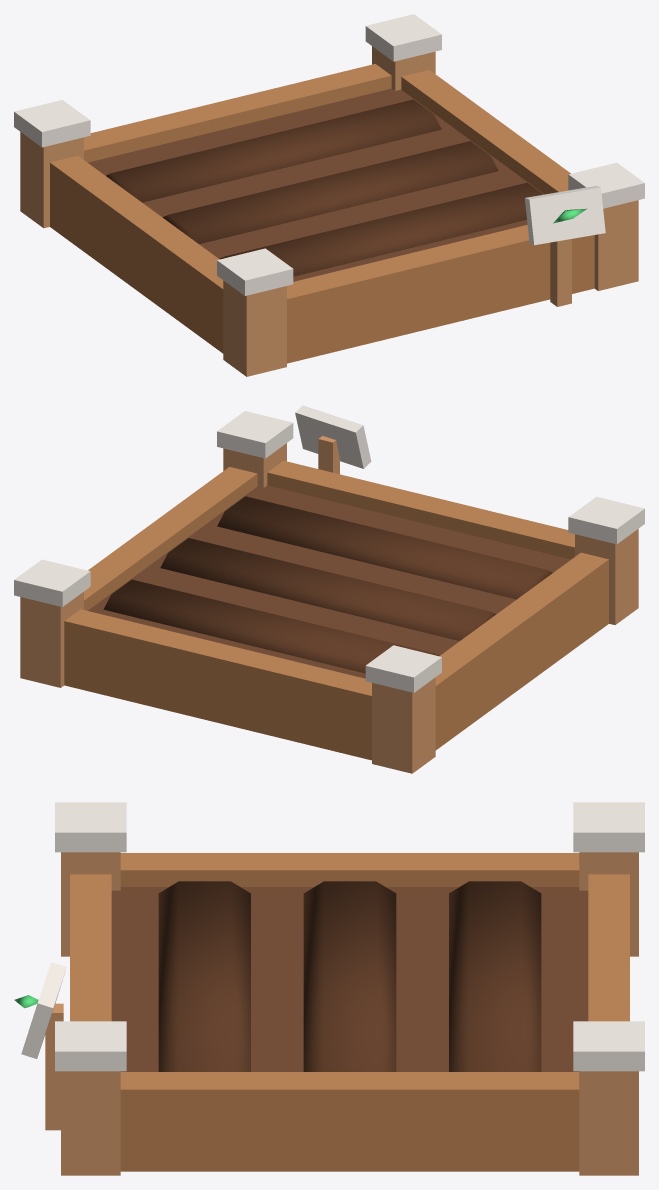
The model's file is garden_plot.glb.
The picture shows the model from 3 angles, top to bottom: view 1: azimuth 30°, elevation 25°; view 2: azimuth 150°, elevation 25°; view 3: azimuth 270°, elevation 25°; orthographic projection. The views are drawn at different scales.
Parts seen in each view (by area): view 1: garden_plot; view 2: garden_plot; view 3: garden_plot.
Part boxes in pixels (left/top/right/bottom): garden_plot: left=14, top=14, right=644, bottom=376; garden_plot: left=14, top=405, right=644, bottom=773; garden_plot: left=14, top=802, right=644, bottom=1175.
Size of the model in its own units: 1.14 by 0.3047 by 1.22.
